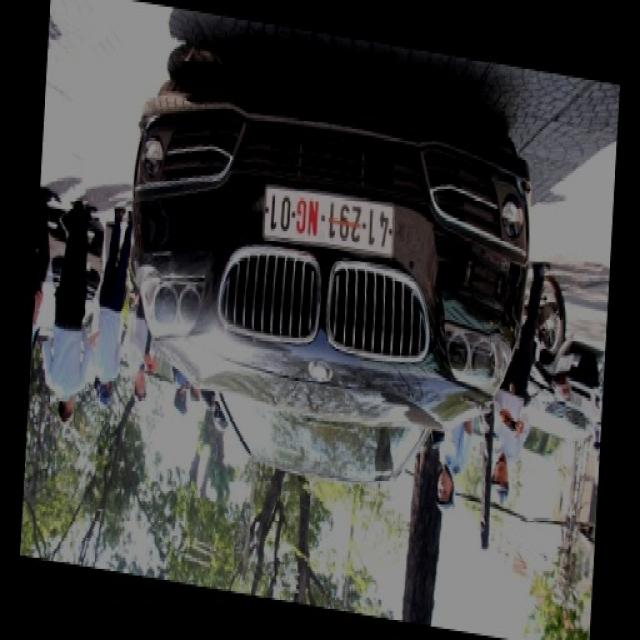bien_ngoai_giao: (264, 182, 396, 264)
